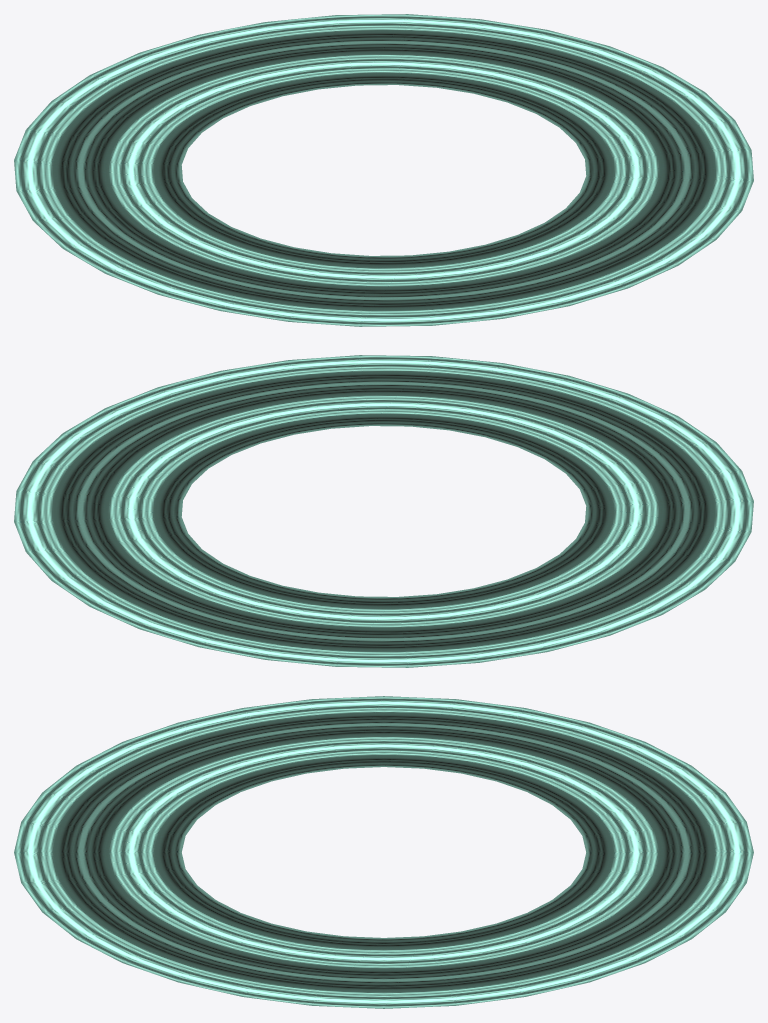
Rendered from Ring.fbx.
3 renders of one model, top to bottom at view 1: azimuth 30°, elevation 25°; view 2: azimuth 150°, elevation 25°; view 3: azimuth 270°, elevation 25°, orthographic.
Visible parts, largest first — view 1: Ring; view 2: Ring; view 3: Ring.
Part boxes in pixels (<box>): Ring: <box>14,14,753,326</box>; Ring: <box>14,355,753,667</box>; Ring: <box>14,696,753,1008</box>.
Bounding box in the file's own units: 722 × 0.000118 × 722.
